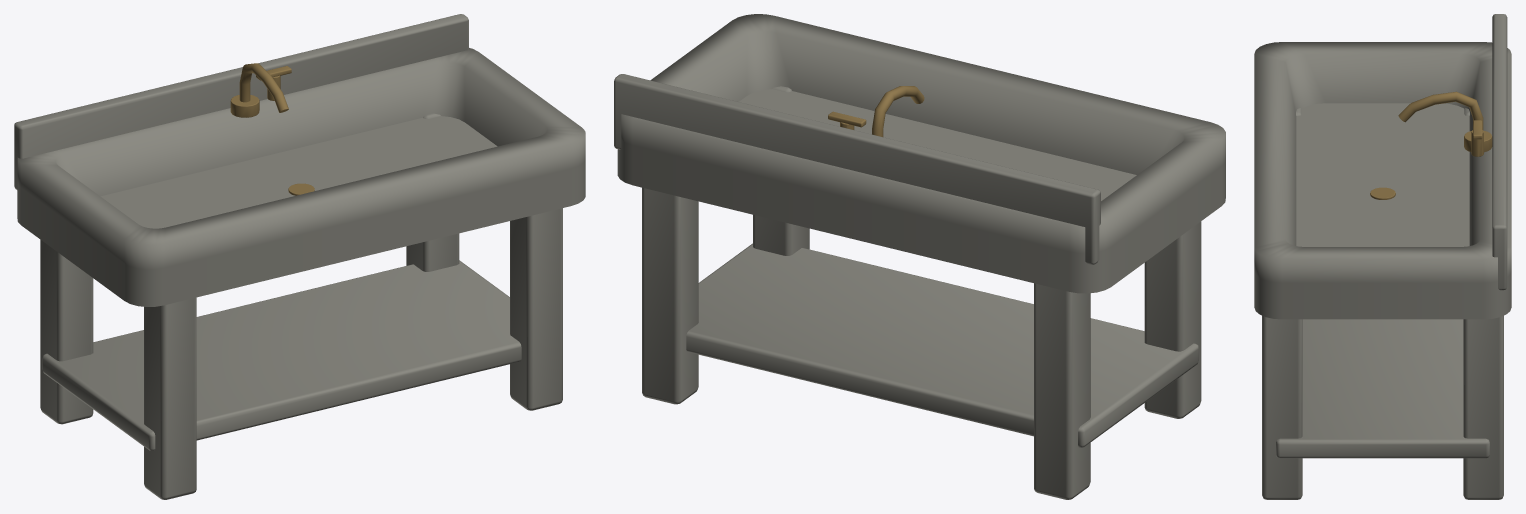
Rendered from kominka-sink-01.glb.
3 renders of one model, left to right at view 1: azimuth 30°, elevation 25°; view 2: azimuth 150°, elevation 25°; view 3: azimuth 270°, elevation 25°, orthographic. The views are drawn at different scales.
Visible parts, largest first — view 1: kominka-sink-01; view 2: kominka-sink-01; view 3: kominka-sink-01.
Part boxes in pixels (x1,y1,x2,y2): kominka-sink-01: (14, 14, 585, 499); kominka-sink-01: (614, 14, 1225, 499); kominka-sink-01: (1254, 14, 1511, 499).
Bounding box in the file's own units: 1.2 × 0.8 × 0.6.
